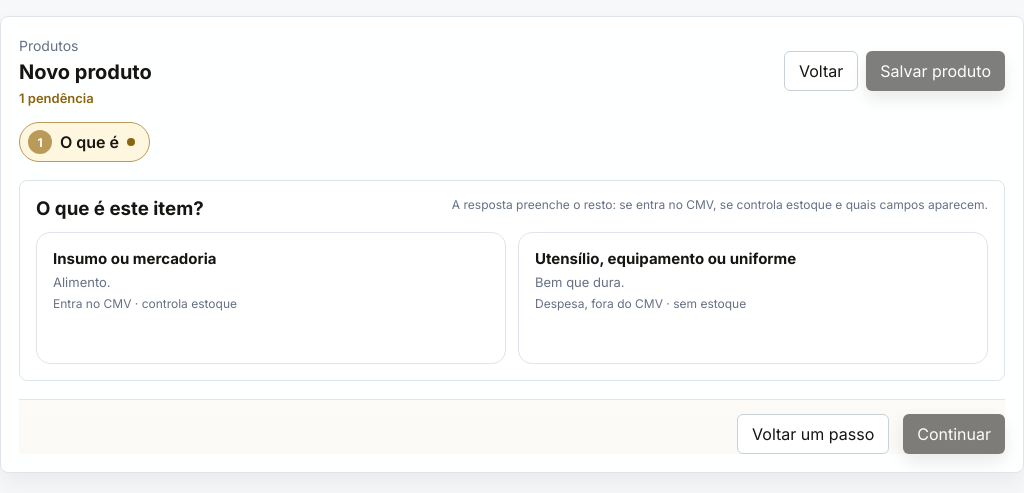
Scenario: ProductEditor › cadastro novo abre perguntando o que é o item e só libera o passo seguinte depois da escolha
Check: the heading "O que é este item?" is shown, box [36,197,204,220]
Check: the button "Continuar" is disabled, box [903,414,1005,454]
What coordinates should you click on to do the following:
click the radio button labelled "Insumo ou mercadoria"
I would click on:
 (135, 258)
Its box is [36,232,506,364].
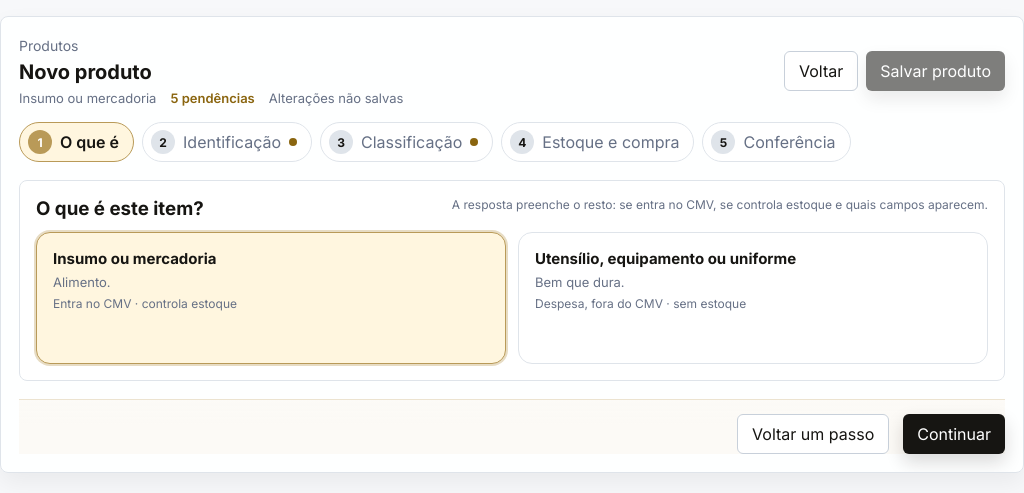
Check: the button "Continuar" is enabled, box [903,414,1005,454]
